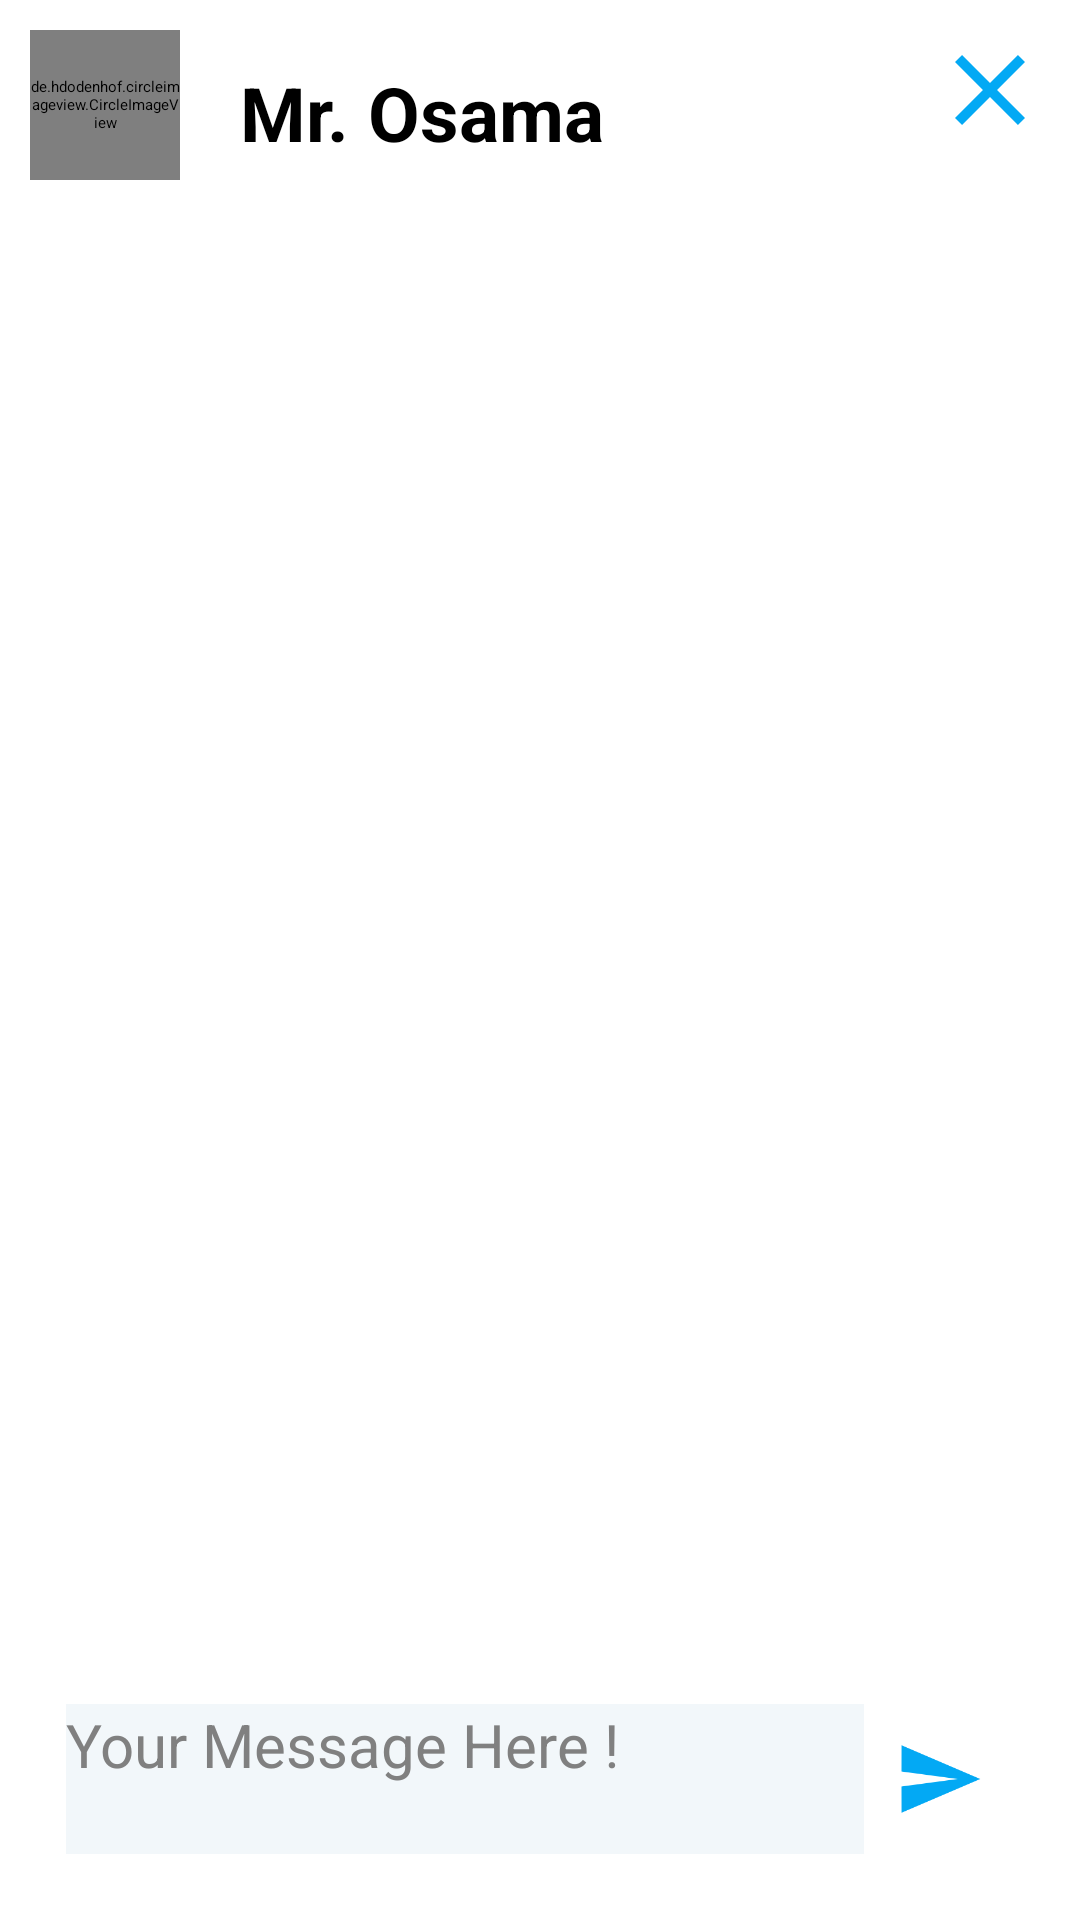

Icon click points for this 1080px×1920px phone screenshot, format (x,y):
close: (990,90)
send: (940,1779)
